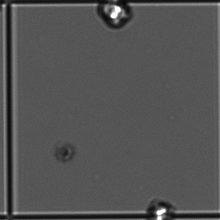Dead Cell: (51, 139, 79, 167)
Living Cell: (94, 1, 138, 31), (148, 201, 171, 219)
